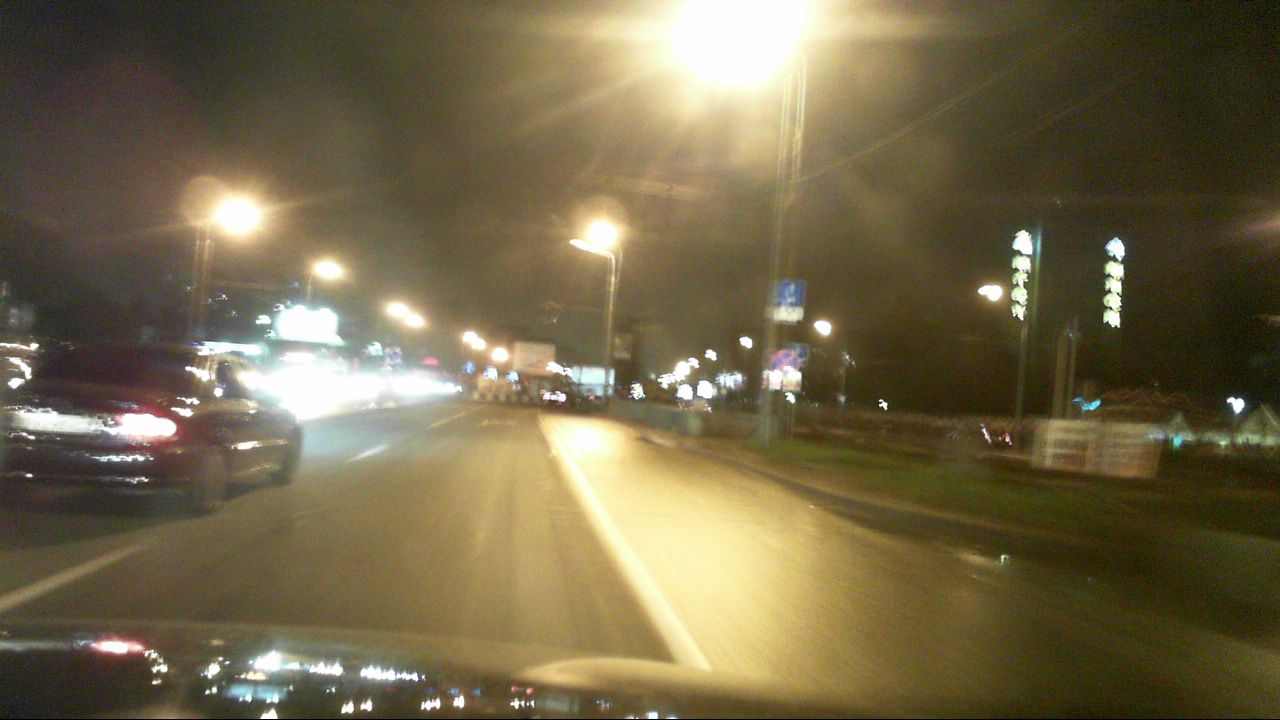No Parking: (773, 350, 798, 377)
